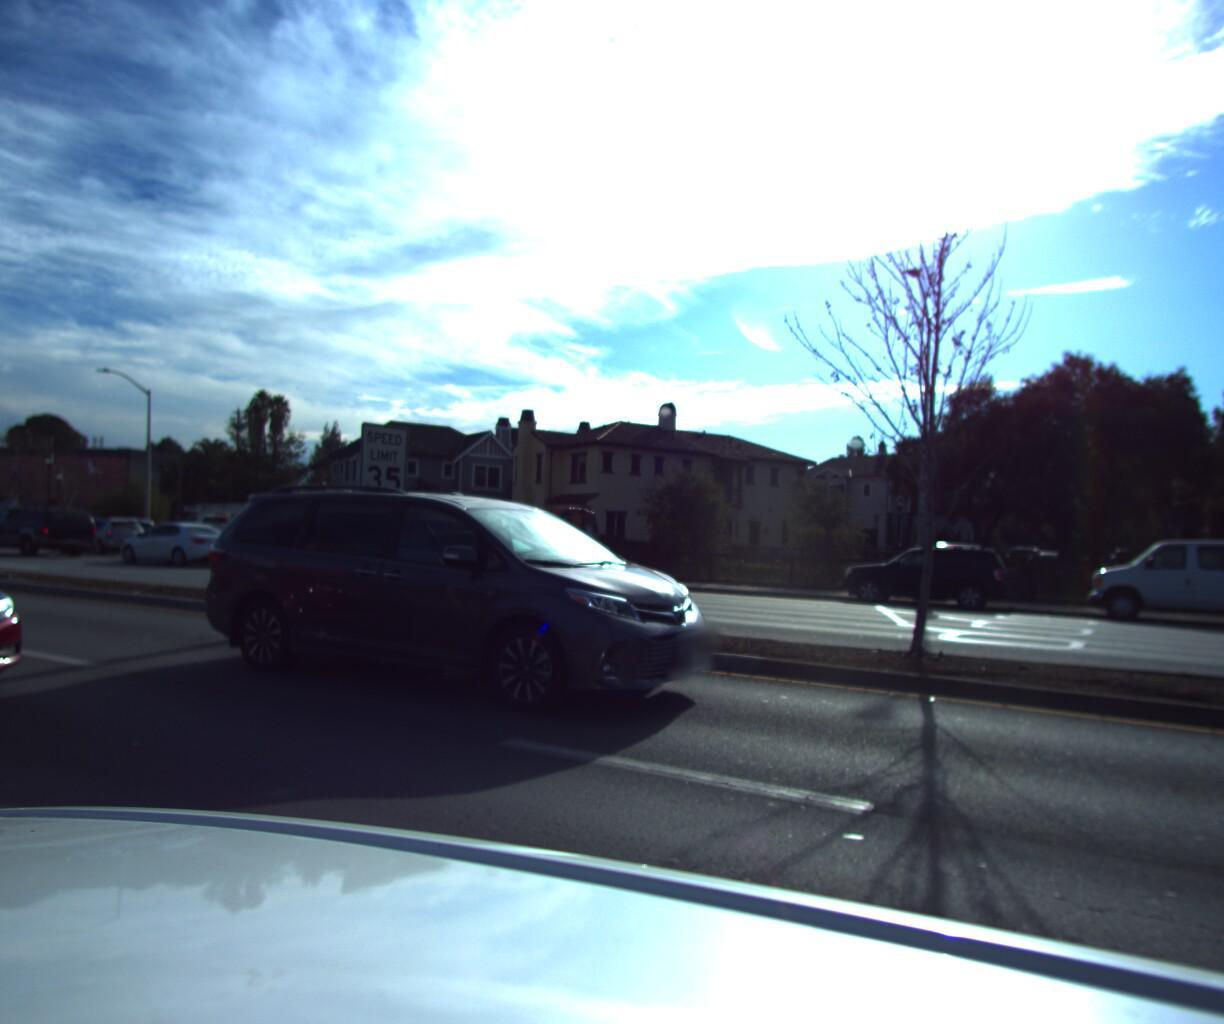car: (190, 473, 742, 734), (0, 499, 90, 779), (1076, 526, 1224, 641), (829, 532, 1015, 617), (441, 497, 608, 584), (140, 494, 315, 565), (102, 516, 248, 574), (0, 498, 104, 557), (71, 509, 185, 554), (44, 508, 151, 555), (0, 503, 30, 547)
other_vehicle: (245, 481, 457, 576)
